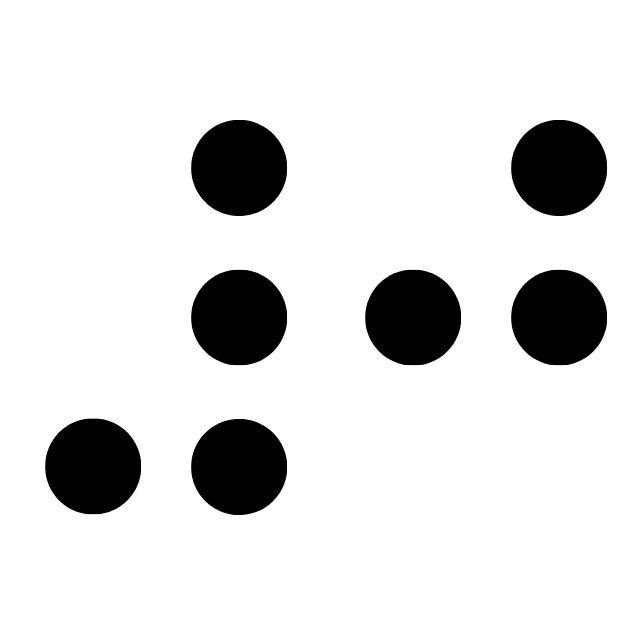0: (366, 121, 608, 516)
number: (45, 120, 287, 515)
